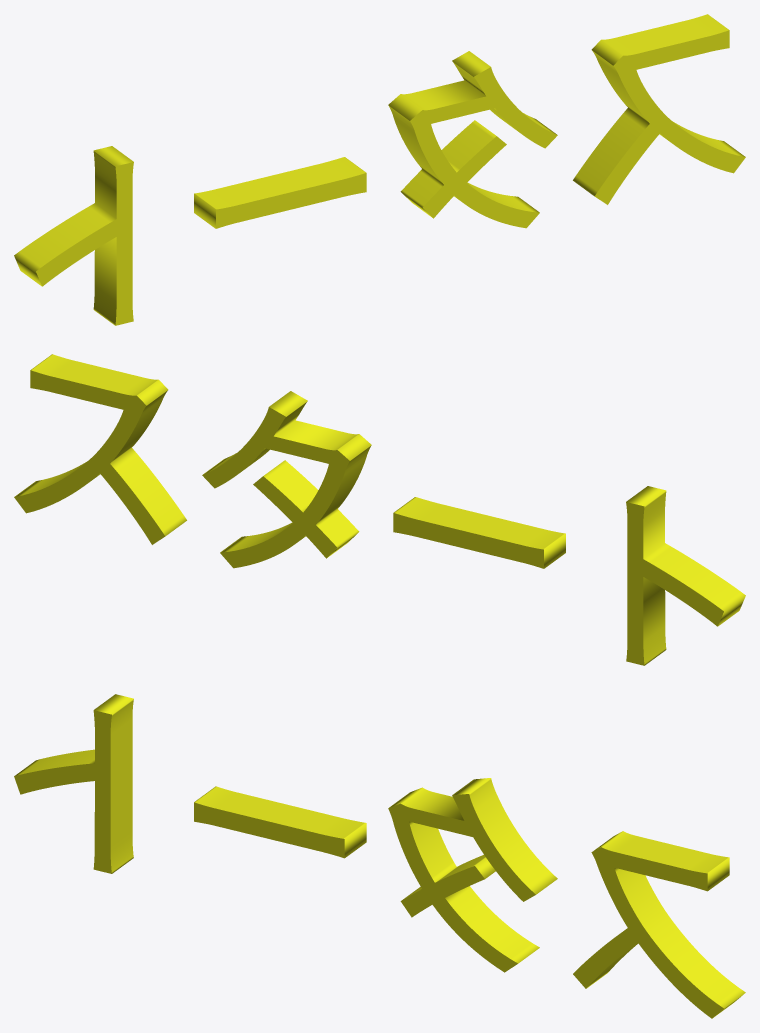
File: UI_Title_Stsrt.obj
3 views of the same model, one above another, from view 1: azimuth 30°, elevation 25°; view 2: azimuth 150°, elevation 25°; view 3: azimuth 330°, elevation 25° (orthographic).
Visible parts, largest first — view 1: テキスト; view 2: テキスト; view 3: テキスト.
Part boxes in pixels (x1=…): テキスト: x1=14, y1=14, x2=745, y2=325; テキスト: x1=14, y1=354, x2=745, y2=665; テキスト: x1=14, y1=694, x2=745, y2=1018.
Size of the model in its own units: 3.75 by 0.858 by 0.2.
